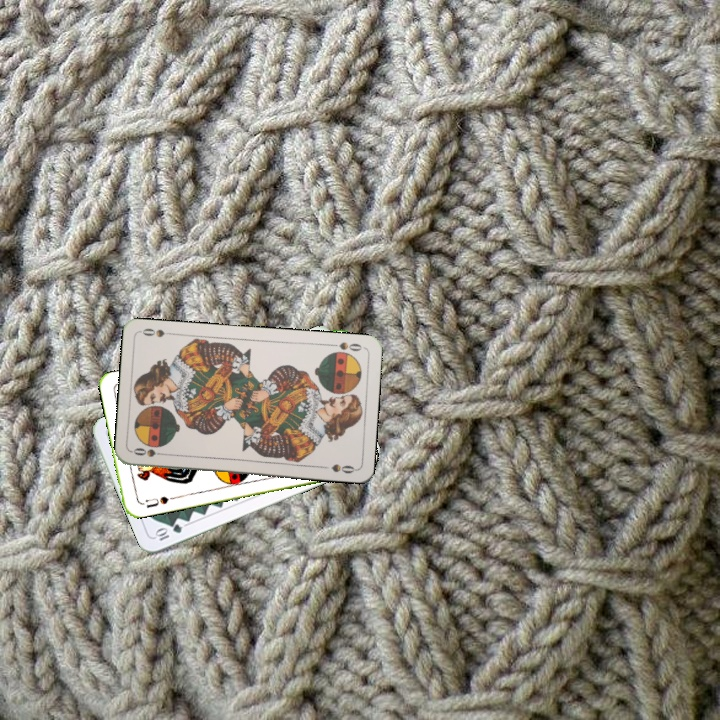G10: (151, 520, 185, 543)
SO: (129, 444, 170, 460), (326, 338, 366, 354)
SU: (142, 492, 171, 511)
